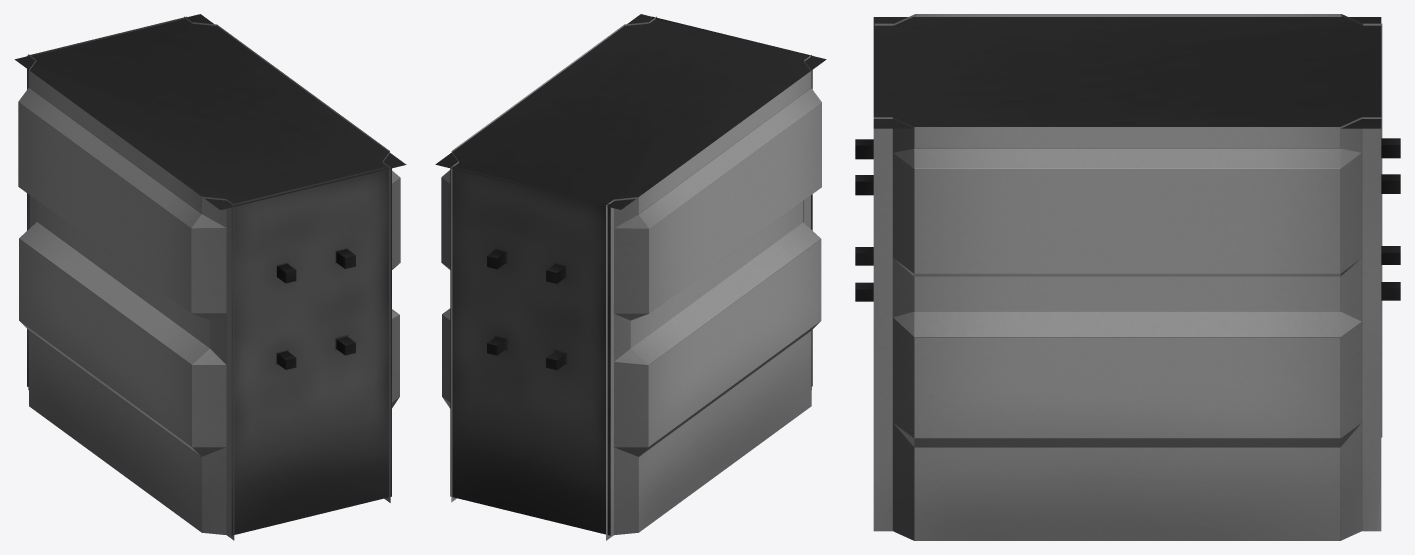
The model's file is stage2.obj.
3 renders of one model, left to right at view 1: azimuth 30°, elevation 25°; view 2: azimuth 150°, elevation 25°; view 3: azimuth 270°, elevation 25°, orthographic. The views are drawn at different scales.
Visible parts, largest first — view 1: 平面; view 2: 平面; view 3: 平面.
Part boxes in pixels (x1,y1,x2,y2): 平面: (14, 14, 406, 540); 平面: (435, 14, 826, 540); 平面: (855, 14, 1400, 540).
Size of the model in its own units: 134 by 207 by 247.
Materials: 1 (1 with a texture image).
